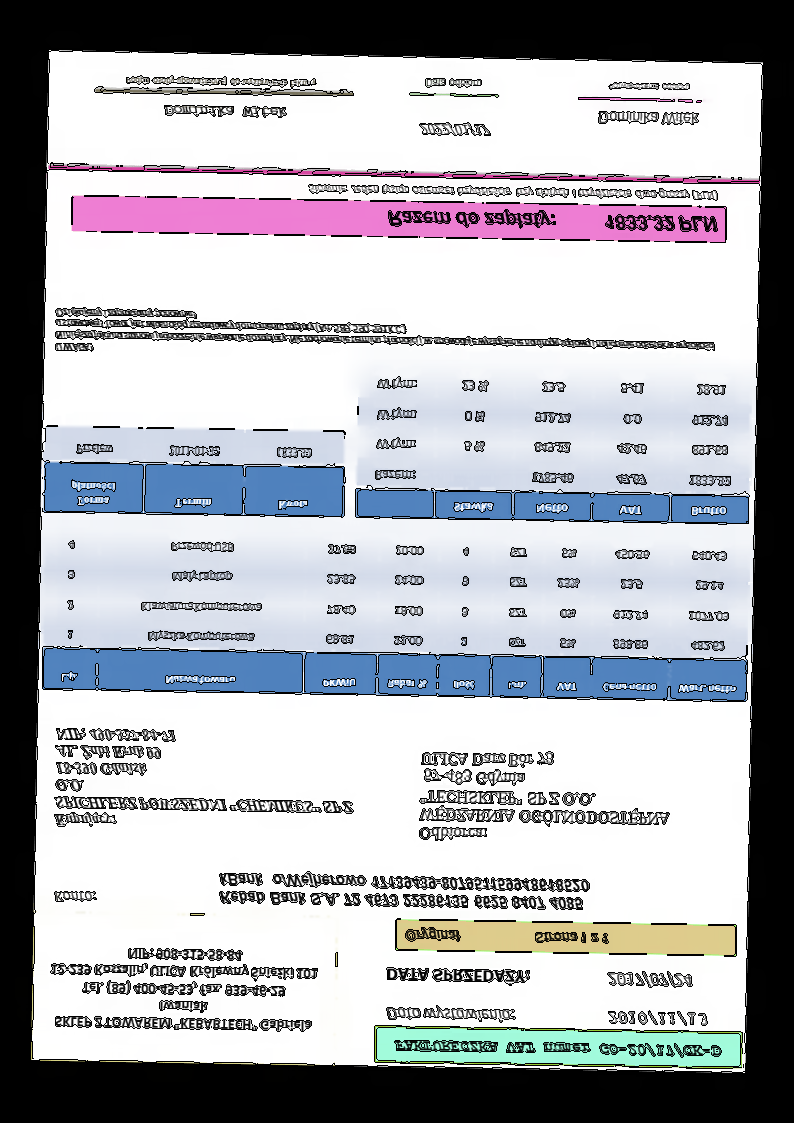Table: (39, 524, 751, 706), (353, 365, 752, 526), (42, 424, 344, 519)
TextBox: (51, 304, 715, 367), (52, 722, 358, 834), (416, 743, 675, 850), (48, 941, 323, 1039), (215, 867, 592, 915), (383, 206, 721, 236), (306, 181, 722, 205), (390, 1038, 728, 1061), (401, 924, 611, 948), (123, 73, 318, 91), (383, 965, 532, 988), (384, 1004, 516, 1028), (160, 101, 291, 121), (595, 108, 703, 130), (607, 1009, 709, 1030), (605, 968, 692, 991), (418, 119, 497, 142), (607, 77, 692, 95), (50, 885, 101, 909), (421, 74, 484, 91)
